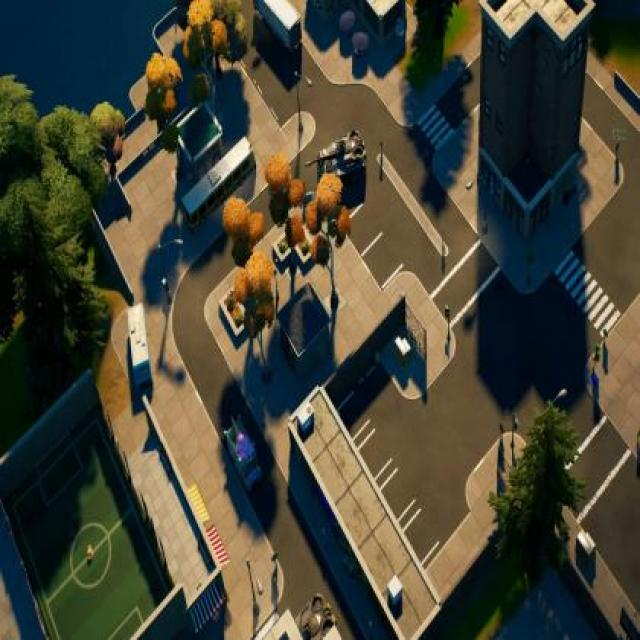tank: (306, 127, 368, 193), (290, 593, 338, 640)
